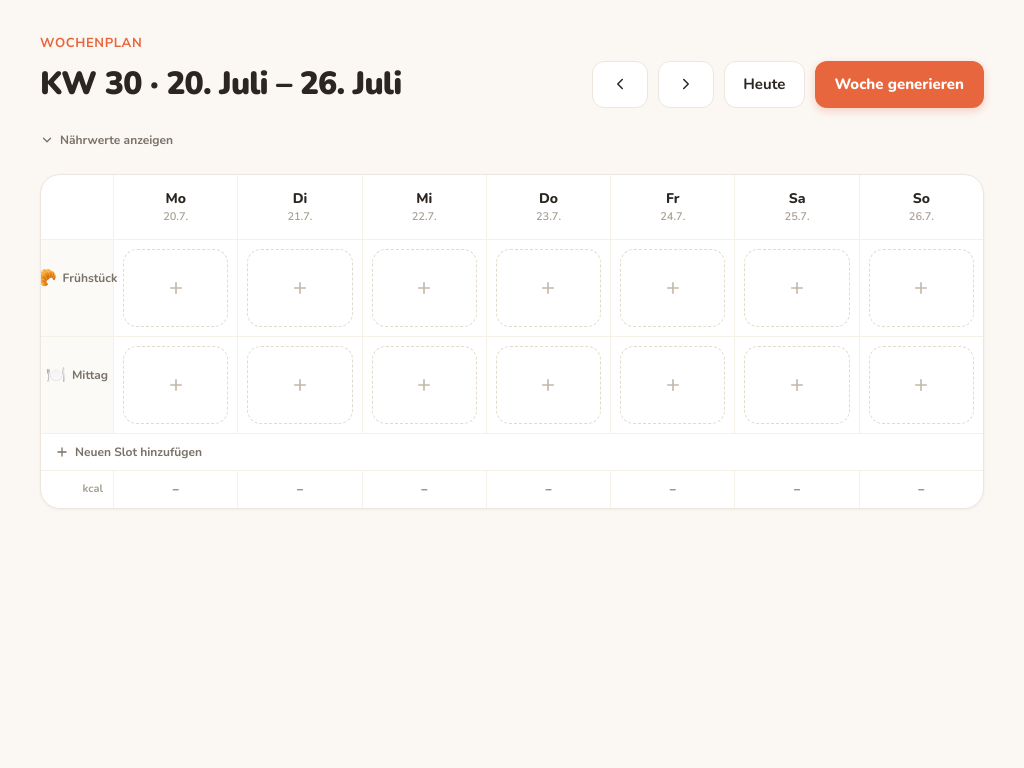
Scenario: PlanPage slot assignment › assigns a dish to an empty slot via the picker dialog
The image size is (1024, 768).
Step 1. Click the button named "Gericht hinzufügen" → (176, 288), box [123,249,228,327]
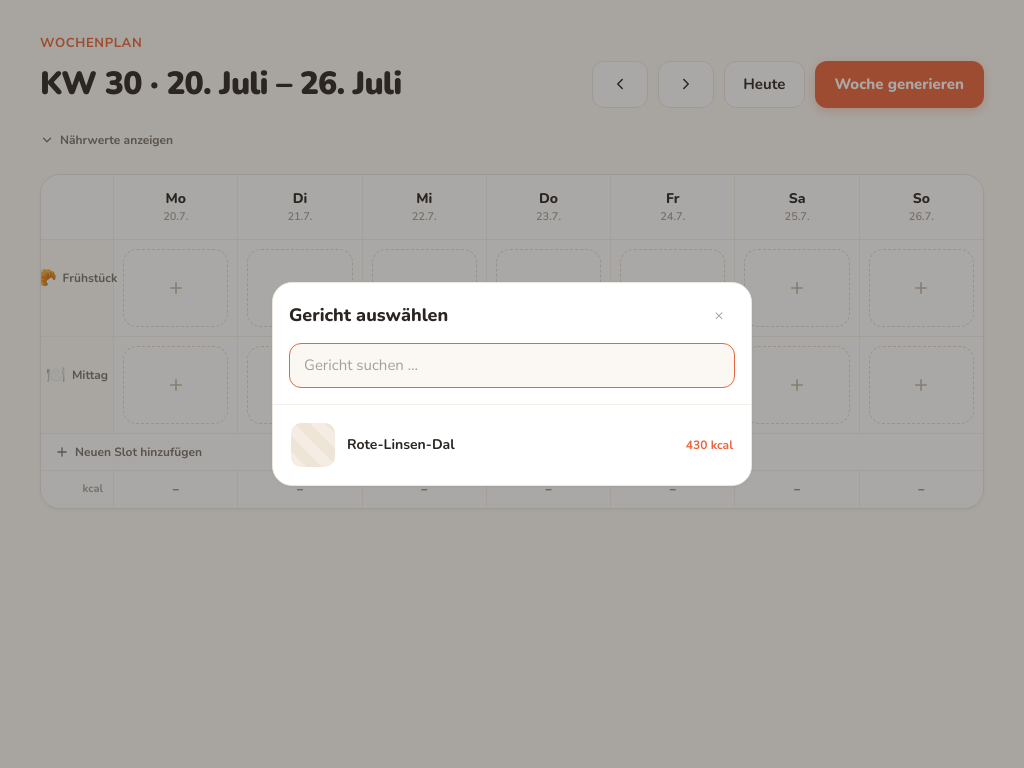
Step 2. Click the text "Rote-Linsen-Dal" → (401, 444), box [347,435,455,454]
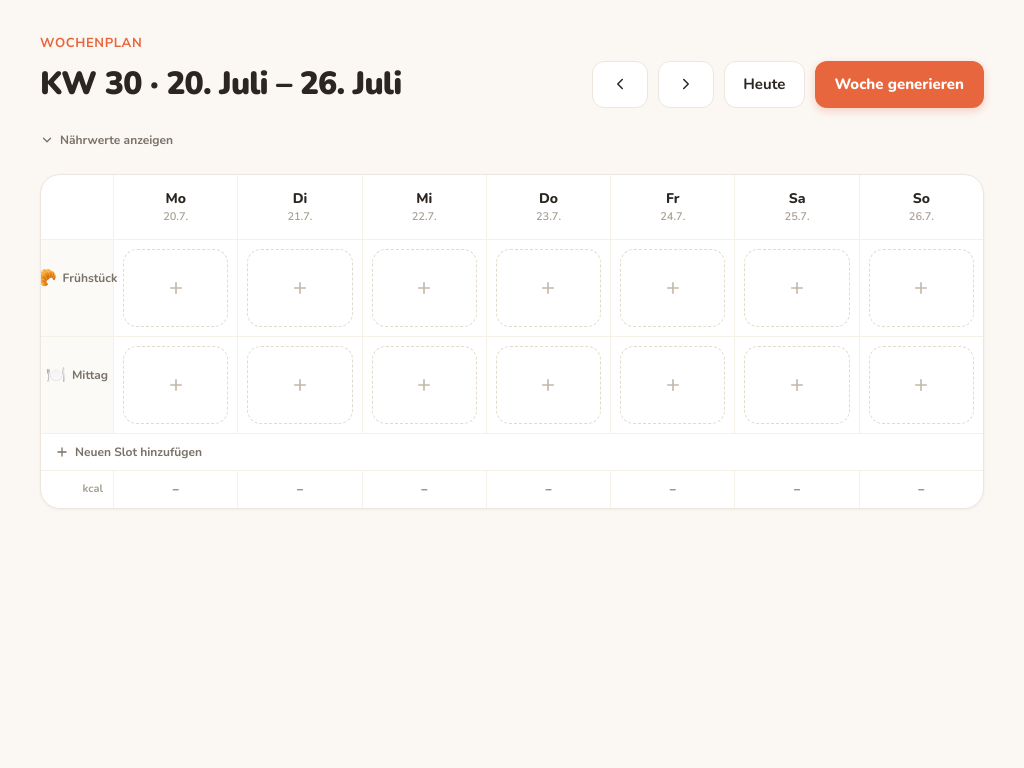
Check: the dialog is gone
